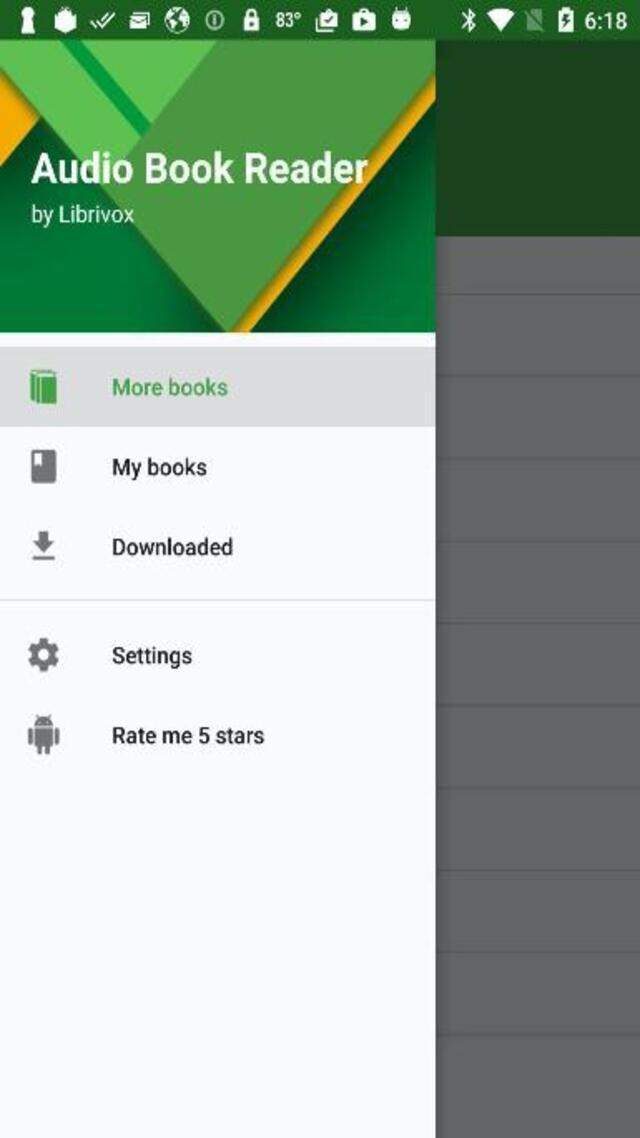Icon: (26, 714, 59, 755), (27, 636, 59, 672), (29, 367, 57, 404), (29, 449, 56, 483), (32, 532, 54, 560)
Text: (31, 150, 368, 184), (114, 724, 265, 745), (113, 536, 233, 556), (32, 203, 134, 226), (114, 378, 228, 398), (112, 456, 207, 479), (113, 644, 193, 668)
